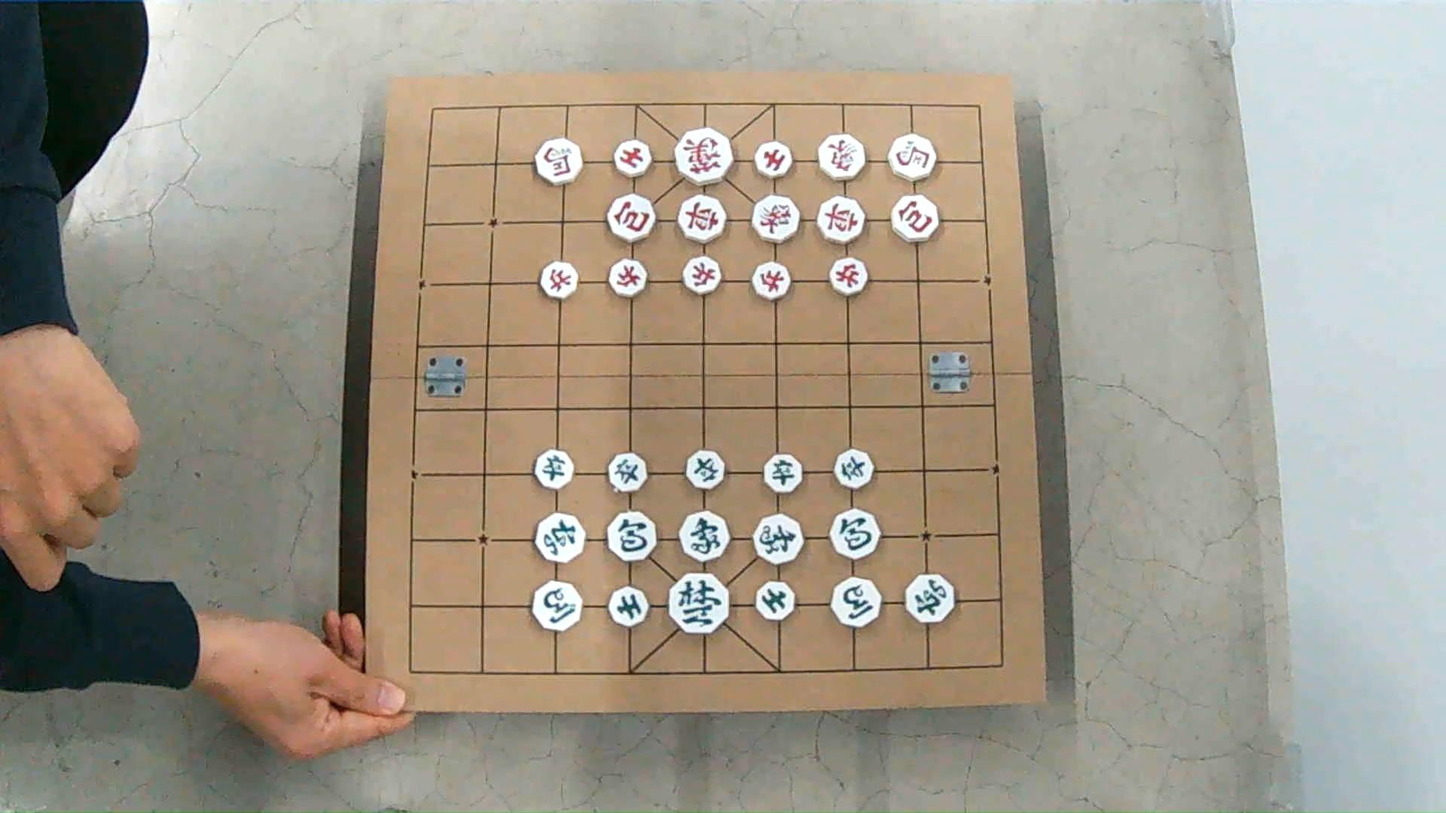cha_green: (535, 513, 584, 562), (904, 574, 953, 623)
cha_red: (816, 196, 864, 244), (679, 195, 725, 243)
jol_green: (834, 449, 873, 489), (685, 449, 724, 489), (608, 452, 646, 492), (535, 449, 572, 489), (764, 454, 801, 493)
jol_red: (829, 257, 868, 296), (682, 256, 720, 294), (752, 262, 790, 300), (539, 261, 577, 299), (609, 259, 646, 297)
ma_green: (532, 581, 581, 631), (831, 578, 880, 627)
ma_red: (888, 134, 935, 181), (535, 139, 582, 185)
po_green: (608, 511, 656, 562), (831, 510, 880, 559)
po_red: (607, 194, 655, 243), (892, 195, 938, 242)
sa_green: (609, 586, 648, 627), (755, 582, 795, 620)
sa_red: (614, 139, 651, 178), (755, 142, 792, 178)
sang_green: (753, 514, 803, 565), (680, 511, 729, 562)
sang_red: (752, 195, 799, 242), (818, 135, 864, 180)
wang_green: (669, 572, 729, 635)
wang_red: (676, 128, 733, 184)
